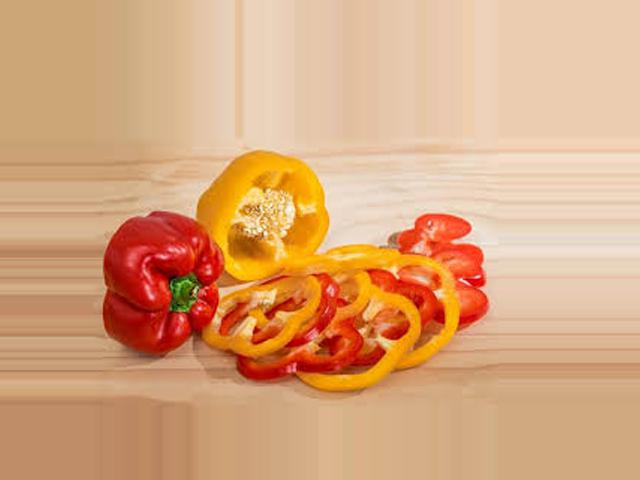bell_pepper: (202, 145, 334, 279)
